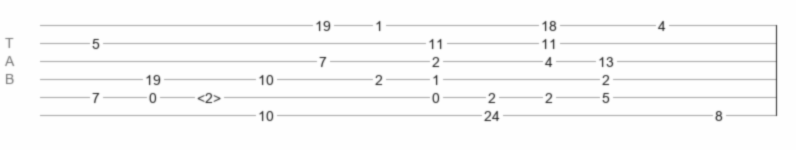0: (149, 90, 157, 100), (432, 90, 440, 100)
1: (375, 18, 383, 28), (432, 72, 440, 82)
10: (258, 72, 274, 82), (258, 108, 274, 118)
11: (428, 36, 444, 46), (541, 36, 557, 46)
13: (598, 54, 614, 64)
18: (541, 18, 557, 28)
19: (145, 72, 161, 82), (315, 18, 331, 28)
2: (375, 72, 383, 82), (432, 54, 440, 64), (488, 90, 496, 100), (545, 90, 553, 100), (602, 72, 610, 82)
24: (484, 108, 500, 118)
4: (545, 54, 553, 64), (658, 18, 666, 28)
5: (92, 36, 100, 46), (602, 90, 610, 100)
7: (92, 90, 100, 100), (319, 54, 327, 64)
8: (715, 108, 723, 118)
harmonic: (197, 90, 221, 100)
